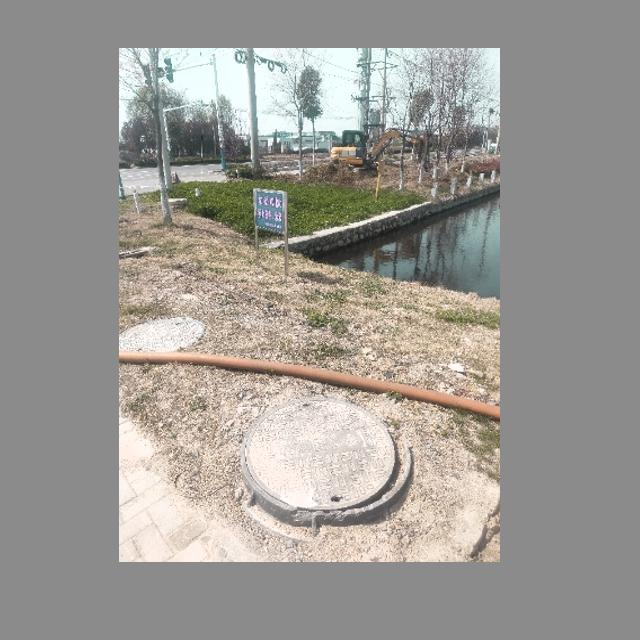good: (120, 316, 208, 353)
uncovered: (238, 394, 414, 527)
